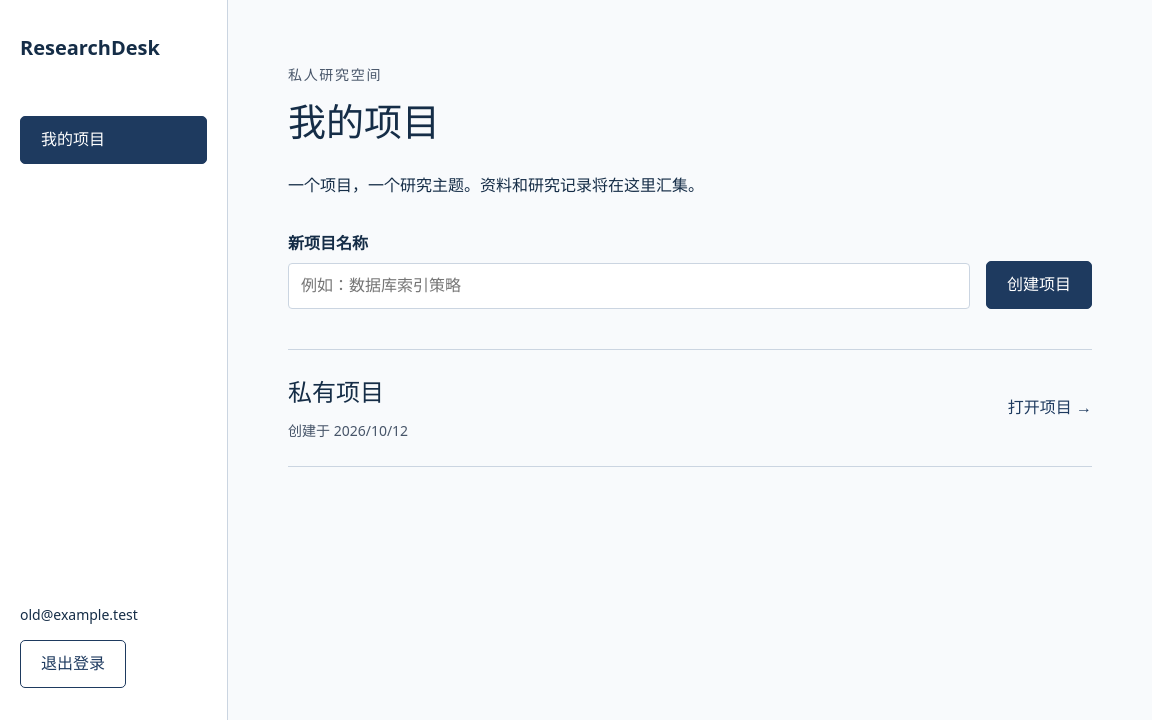
Scenario: auth transitions discard delayed session responses › does not restore private UI from a refresh that started before logout
Expected: the text "私有项目" is shown, [288, 380, 384, 406]
Click the button "退出登录" at [73, 664], box [20, 640, 126, 688]
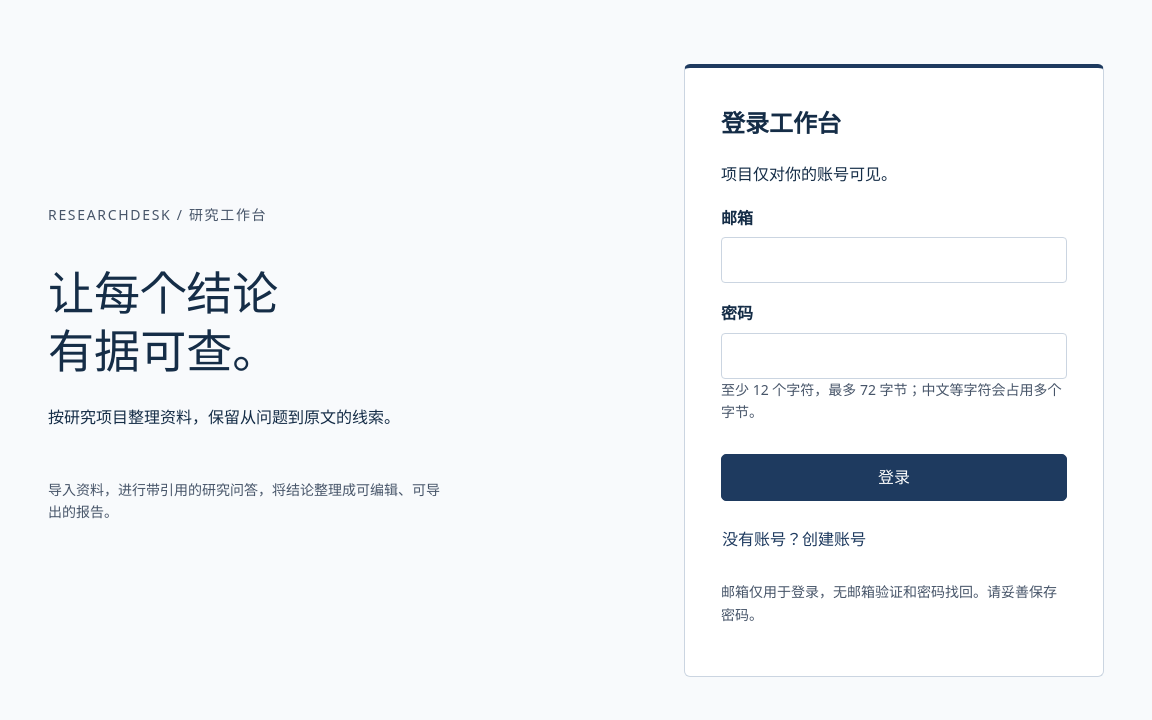
Expected: the button "私有项目" is gone
Expected: the button "登录" is shown, [721, 454, 1067, 502]
